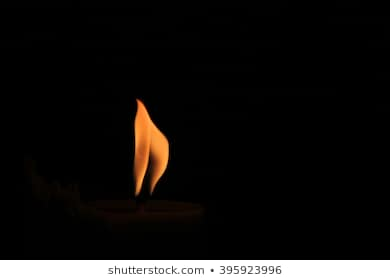Fire: (128, 98, 174, 193)
